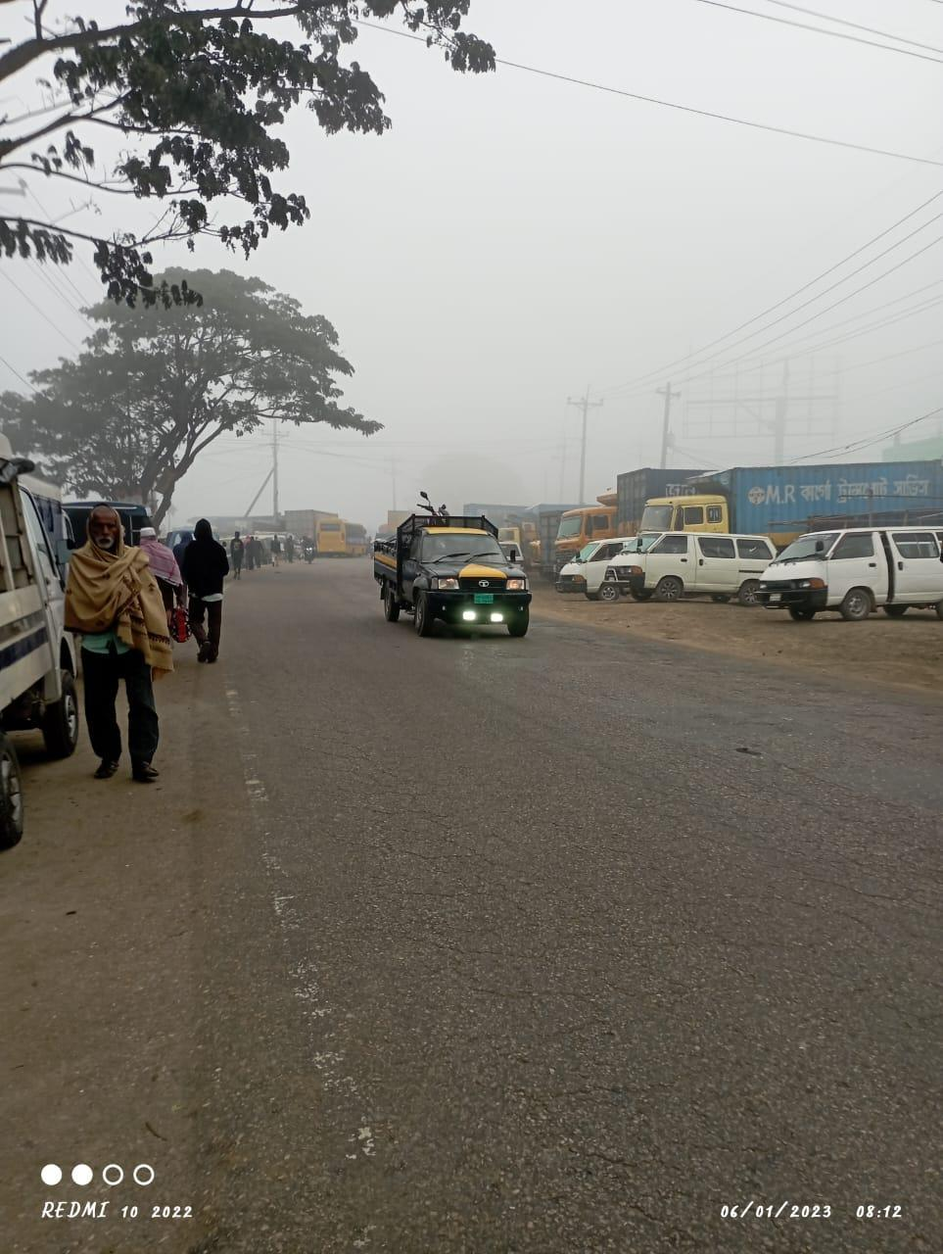Bus: (310, 509, 370, 561)
Car: (753, 524, 943, 616), (607, 528, 784, 601), (549, 540, 624, 596)
Truck: (366, 491, 542, 655), (648, 461, 943, 537)
